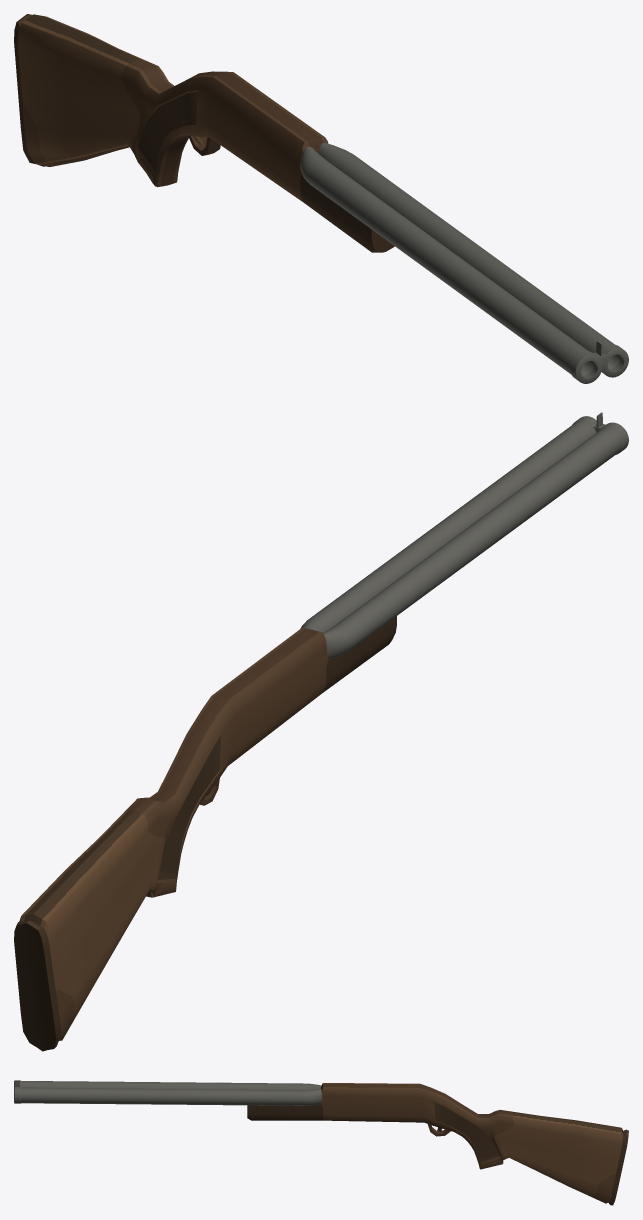
The model's file is SHOTGUN.fbx.
3 renders of one model, top to bottom at view 1: azimuth 30°, elevation 25°; view 2: azimuth 150°, elevation 25°; view 3: azimuth 270°, elevation 25°, orthographic. The views are drawn at different scales.
Parts seen in each view (by area): view 1: DB; view 2: DB; view 3: DB.
Part boxes in pixels (x1,y1,x2,y2): DB: (14,14,628,383); DB: (14,412,628,1051); DB: (14,1080,628,1205).
Bounding box in the file's own units: 6.39 × 116 × 25.91.
2 materials, 1 textured.
